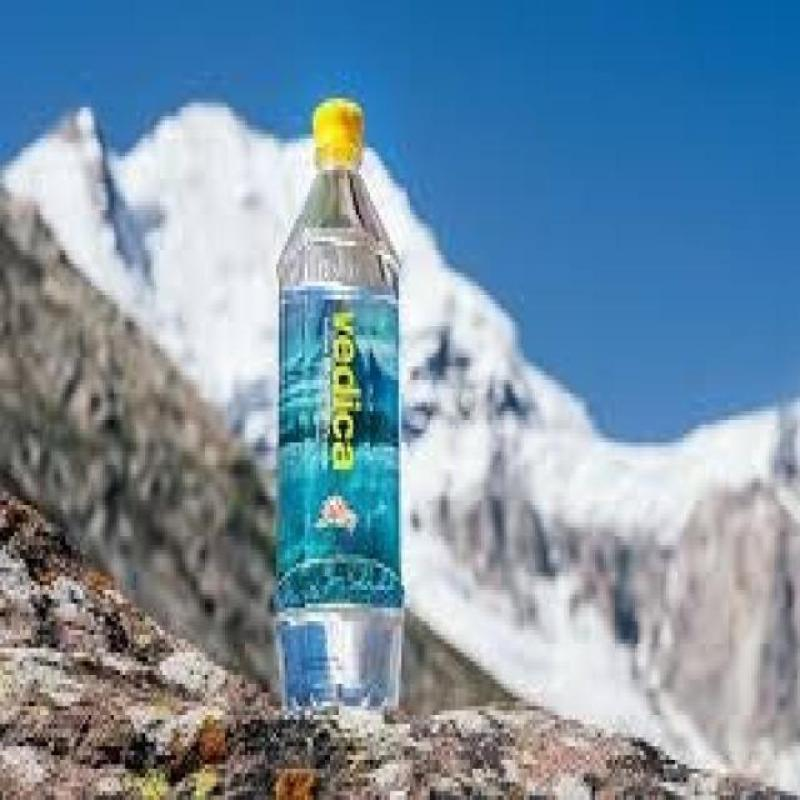botella: (274, 98, 404, 716)
